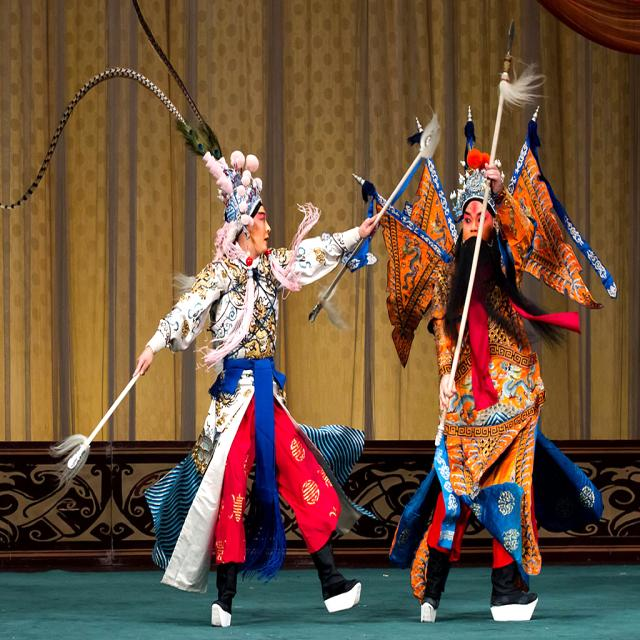Reeves-s Pheasant: (0, 68, 183, 209), (132, 0, 202, 118)
